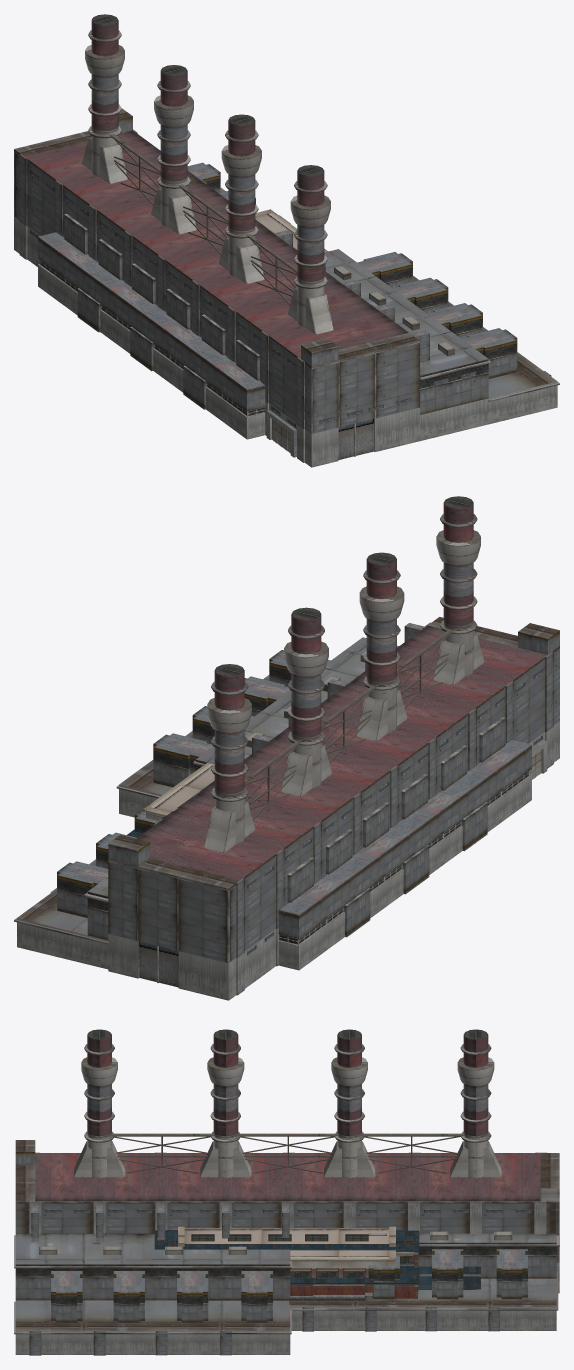
File: epuletek.glb
3 views of the same model, one above another, from view 1: azimuth 30°, elevation 25°; view 2: azimuth 150°, elevation 25°; view 3: azimuth 270°, elevation 25° (orthographic). The views are drawn at different scales.
Visible parts, largest first — view 1: Powerplant_1, Building_10; view 2: Powerplant_1, Building_10; view 3: Powerplant_1, Building_10, FactoryPlant_1, FactoryPlant_2, Hangar_2.
Boxes of the visible parts, x1,y1,x2,y2 form: Powerplant_1: (14, 14, 559, 467); Building_10: (255, 209, 362, 298); Powerplant_1: (14, 496, 559, 1000); Building_10: (142, 762, 214, 820); Powerplant_1: (14, 1029, 559, 1355); Building_10: (178, 1226, 395, 1277); FactoryPlant_1: (154, 1230, 419, 1298); FactoryPlant_2: (418, 1266, 480, 1289); Hangar_2: (208, 1292, 372, 1301).
Size of the model in its own units: 99.29 by 89.08 by 191.
Materials: 12 (12 with a texture image).
